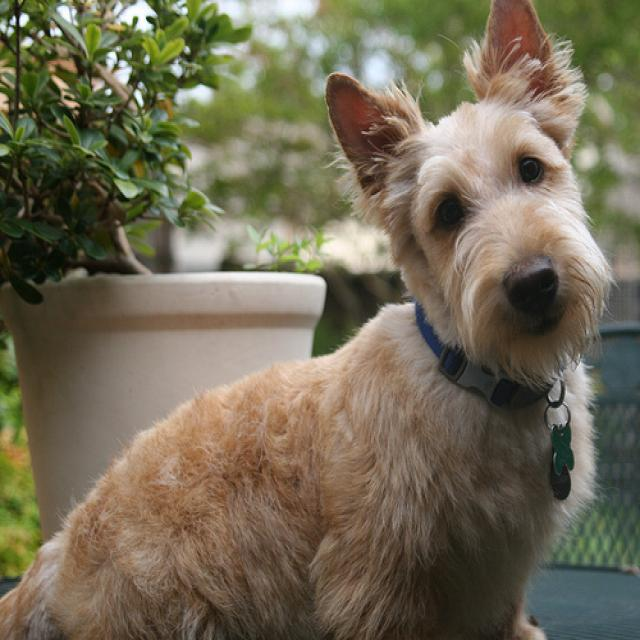dog-scottish_terrier: (1, 1, 621, 637)
